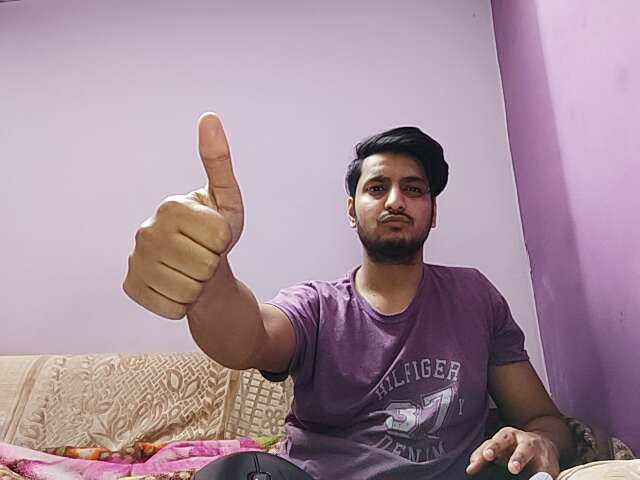ThumbsUp: (110, 113, 255, 326)
